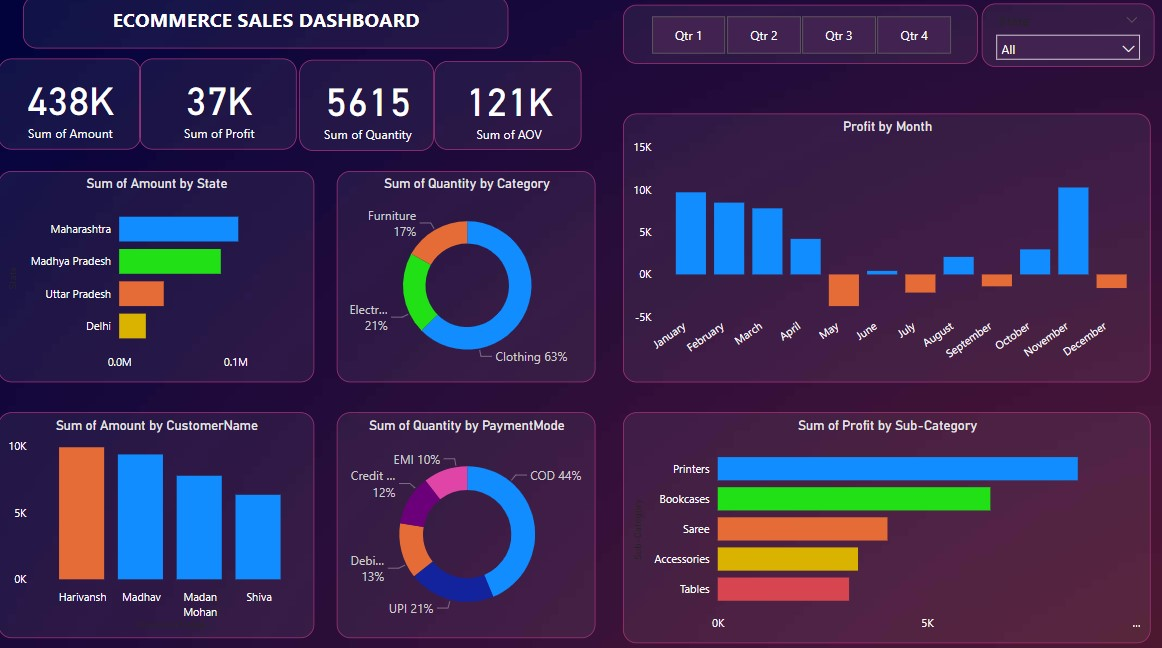

This screenshot's page, from the dashboard's own definition file:
{"tool":"powerbi","page":{"name":"Page 1","canvas":[1280,720],"ordinal":0},"visuals":[{"type":"textbox","box":[27.4,0,532.4,57.6],"z":0},{"type":"columnChart","title":"Profit by Month","fields":{"Category":["Orders.Order Date.Variation.Date Hierarchy.Month"],"Y":["Details.Profit"]},"box":[686.1,129,579.1,295],"z":1000},{"type":"barChart","fields":{"Category":["Details.Sub-Category"],"Y":["Details.Profit"]},"box":[686.1,456.9,579.1,253.9],"z":2000},{"type":"donutChart","fields":{"Category":["Details.Category"],"Y":["Details.Quantity"]},"box":[371.9,192.1,284,231.9],"z":3000},{"type":"donutChart","fields":{"Category":["Details.PaymentMode"],"Y":["Details.Quantity"]},"box":[371.9,456.9,284,248.4],"z":4000},{"type":"card","fields":{"Values":["Details.Amount"]},"box":[0,68.6,156.4,100.2],"z":5000},{"type":"card","fields":{"Values":["Details.Quantity"]},"box":[330.7,70,148.2,100.2],"z":6000},{"type":"card","fields":{"Values":["Details.Profit"]},"box":[155.1,68.6,172.9,100.2],"z":7000},{"type":"card","fields":{"Values":["Details.AOV"]},"box":[478.9,71.4,161.9,97.4],"z":8000},{"type":"barChart","fields":{"Category":["Orders.State"],"Y":["Details.Amount"]},"box":[0,192.1,347.2,231.9],"z":9001},{"type":"columnChart","fields":{"Category":["Orders.CustomerName"],"Y":["Details.Amount"]},"box":[0,457,347,248],"z":9002},{"type":"slicer","fields":{"Values":["Orders.Order Date.Variation.Date Hierarchy.Quarter"]},"box":[686.1,9.6,389.7,64.5],"z":9003},{"type":"slicer","fields":{"Values":["Orders.State"]},"box":[1079.9,8.2,189.4,70],"z":9004}]}

Visuals, with their boxes in screenshot pixels (x1, y1, x2, y2), scaled from the page's 1280x720 canvas onto the 1162x648 screenshot:
textbox: [left=25, top=0, right=508, bottom=52]
"Profit by Month" columnChart: [left=623, top=116, right=1149, bottom=382]
barChart - Details.Sub-Category x Details.Profit: [left=623, top=411, right=1149, bottom=640]
donutChart - Details.Category x Details.Quantity: [left=338, top=173, right=595, bottom=382]
donutChart - Details.PaymentMode x Details.Quantity: [left=338, top=411, right=595, bottom=635]
card - Details.Amount: [left=0, top=62, right=142, bottom=152]
card - Details.Quantity: [left=300, top=63, right=435, bottom=153]
card - Details.Profit: [left=141, top=62, right=298, bottom=152]
card - Details.AOV: [left=435, top=64, right=582, bottom=152]
barChart - Orders.State x Details.Amount: [left=0, top=173, right=315, bottom=382]
columnChart - Orders.CustomerName x Details.Amount: [left=0, top=411, right=315, bottom=634]
slicer - Orders.Order Date.Variation.Date Hierarchy.Quarter: [left=623, top=9, right=977, bottom=67]
slicer - Orders.State: [left=980, top=7, right=1152, bottom=70]
